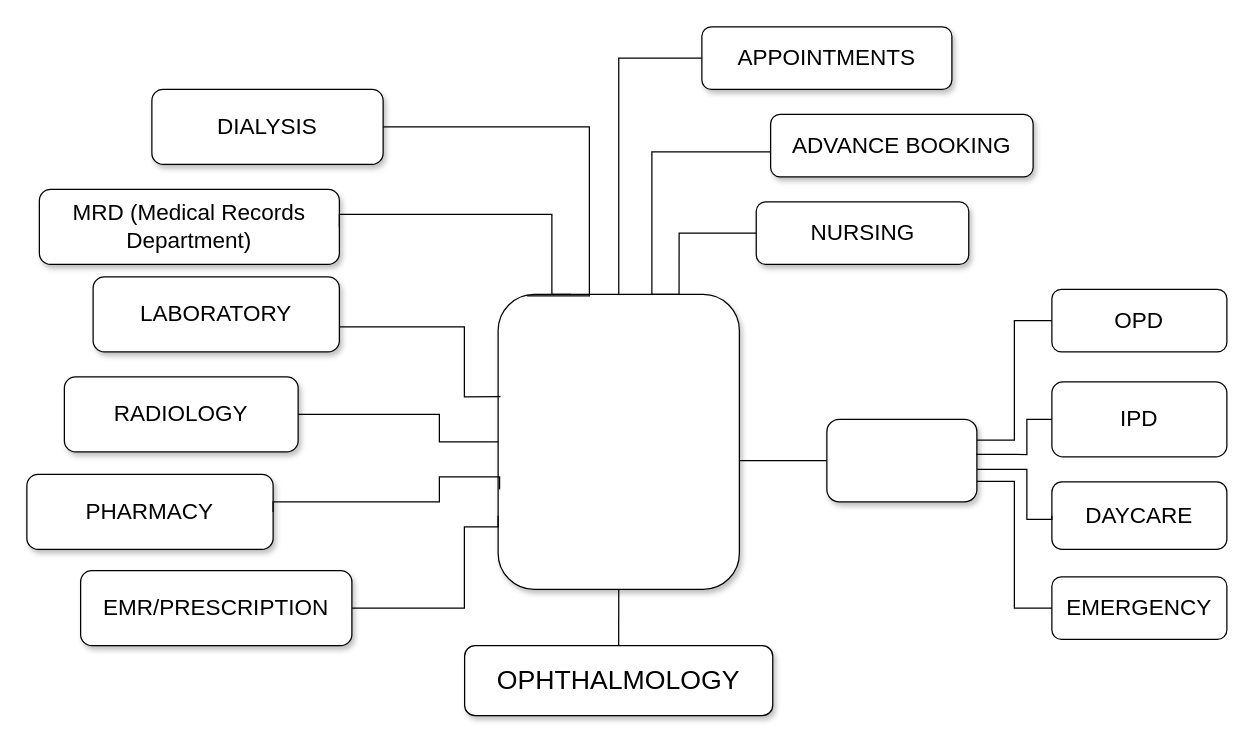
Image size: 1249x746. Some labels were removed from this diagram. Here are the shapes that lost their labels. From the top down, the centre of each, then its label:
At point (619, 443): "Hospital Information System".
At point (902, 462): "VISIT".
